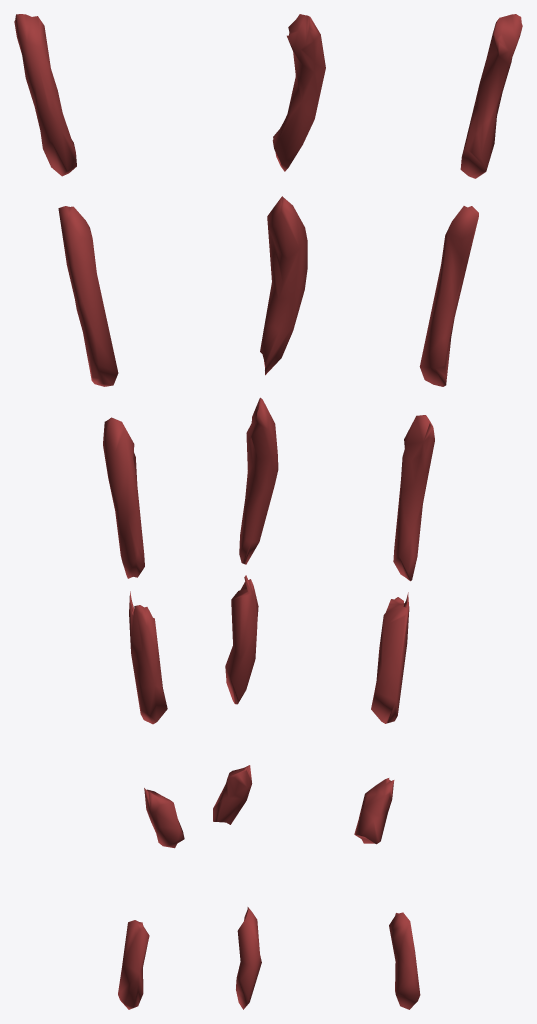
Rendered from interspinales-lumborum-muscles-r.glb.
3 views of the same model, side by side, from view 1: azimuth 90°, elevation 25°; view 2: azimuth 210°, elevation 25°; view 3: azimuth 270°, elevation 25° (orthographic). The views are drawn at different scales.
Visible parts, largest first — view 1: Interspinales lumborum muscles.r; view 2: Interspinales lumborum muscles.r; view 3: Interspinales lumborum muscles.r.
Part boxes in pixels (x1,y1,x2,y2): Interspinales lumborum muscles.r: [14, 14, 184, 1009]; Interspinales lumborum muscles.r: [213, 14, 325, 1009]; Interspinales lumborum muscles.r: [354, 14, 522, 1009].
Size of the model in its own units: 0.00875 by 0.1603 by 0.0247.
